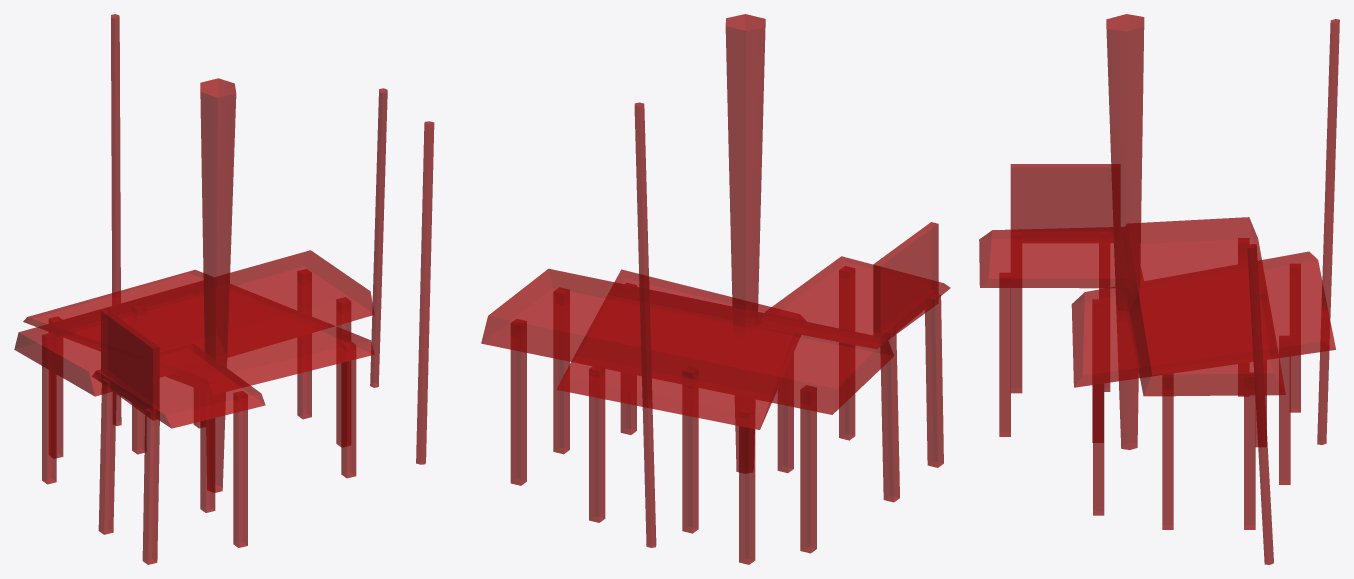
The model's file is SM_Bld_Camp_Tent_06_Collision.fbx.
3 views of the same model, side by side, from view 1: azimuth 30°, elevation 25°; view 2: azimuth 150°, elevation 25°; view 3: azimuth 270°, elevation 25° (orthographic). The views are drawn at different scales.
Visible parts, largest first — view 1: SM_Bld_Camp_Tent_06_Collision; view 2: SM_Bld_Camp_Tent_06_Collision; view 3: SM_Bld_Camp_Tent_06_Collision.
Boxes of the visible parts, x1,y1,x2,y2 form: SM_Bld_Camp_Tent_06_Collision: (14, 14, 387, 564); SM_Bld_Camp_Tent_06_Collision: (416, 14, 950, 564); SM_Bld_Camp_Tent_06_Collision: (979, 14, 1339, 564).
Size of the model in its own units: 718 by 755 by 573.
